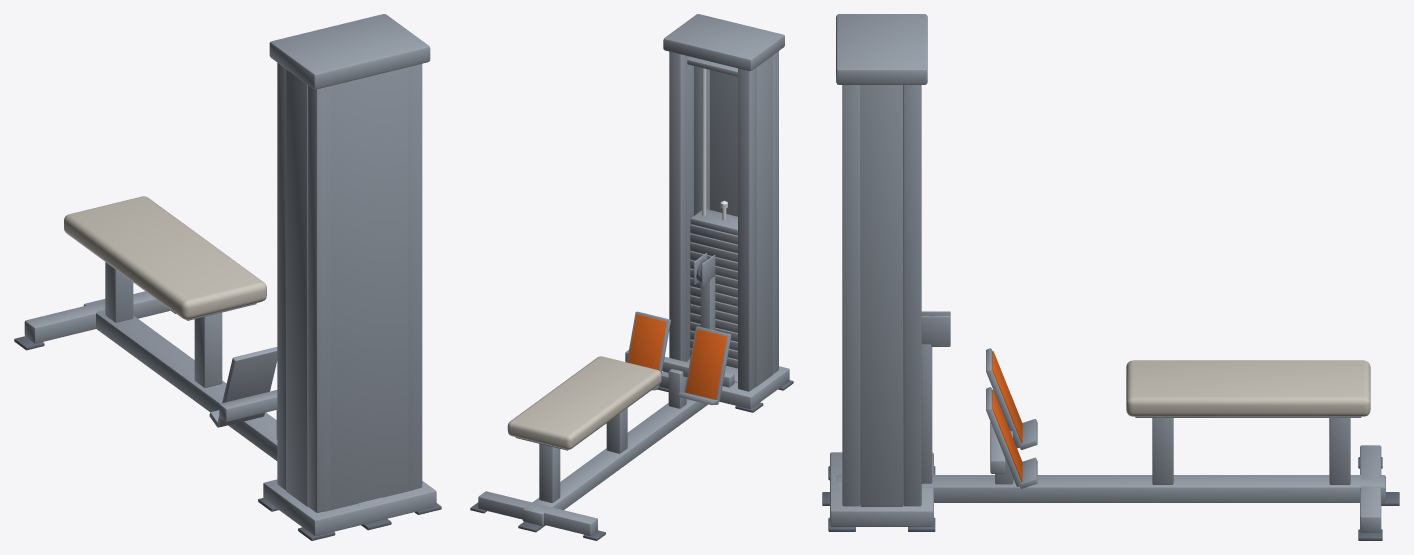
The model's file is seated-cable-row.glb.
The picture shows the model from 3 angles, left to right: view 1: azimuth 30°, elevation 25°; view 2: azimuth 150°, elevation 25°; view 3: azimuth 270°, elevation 25°; orthographic projection. The views are drawn at different scales.
Visible parts, largest first — view 1: frame.frame, frame.pad, frame.rubber; view 2: frame.frame, frame.pad, stack.stack, frame.tread, stack.frame, frame.chrome, frame.rubber; view 3: frame.frame, frame.pad, frame.tread, frame.rubber.
Part boxes in pixels (box(x1,y1,x2,y2)): frame.frame: box(24, 14, 436, 535); frame.pad: box(64, 196, 266, 319); frame.rubber: box(14, 310, 441, 540); frame.frame: box(478, 14, 789, 535); frame.pad: box(507, 356, 661, 449); stack.stack: box(690, 224, 737, 368); frame.tread: box(628, 314, 727, 399); stack.frame: box(690, 209, 737, 235); frame.chrome: box(702, 68, 706, 215); frame.rubber: box(470, 273, 793, 540); frame.frame: box(830, 14, 1385, 532); frame.pad: box(1126, 360, 1370, 416); frame.tread: box(992, 351, 1022, 481); frame.rubber: box(822, 457, 1399, 540).
Bounding box in the file's own units: 0.63 × 1.66 × 1.89.
